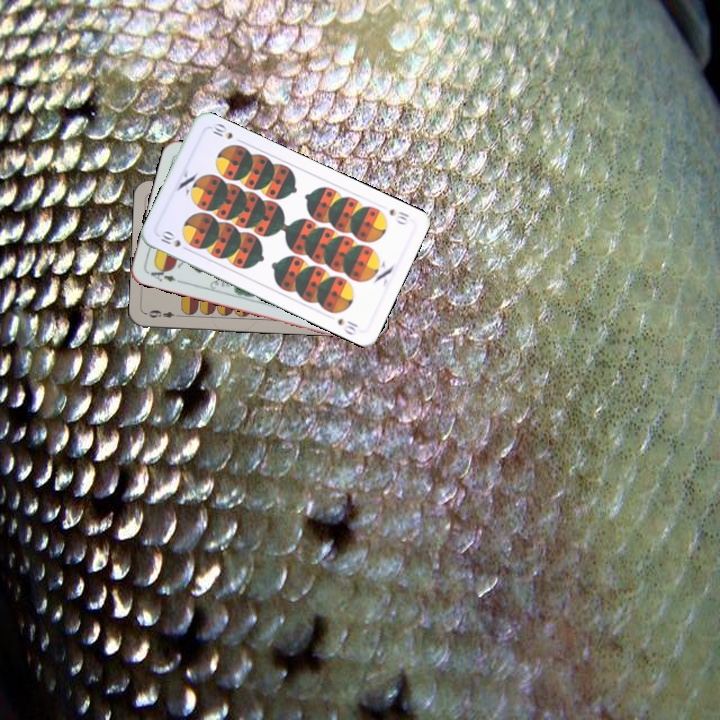E9: (145, 306, 184, 321)
EA: (146, 263, 184, 285)
S10: (156, 227, 193, 254), (385, 204, 412, 228)
